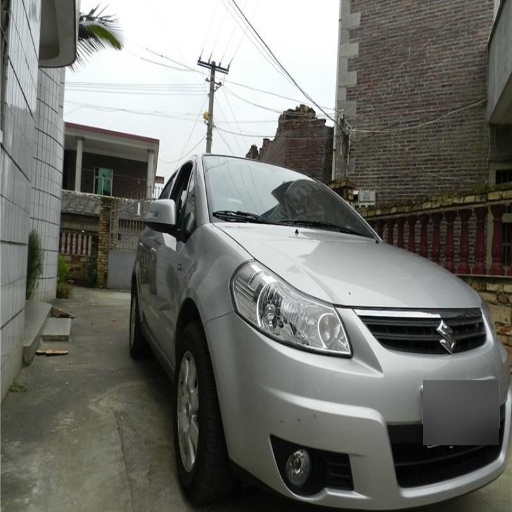front_bumper: (206, 306, 511, 511)
front_right_door: (148, 179, 198, 350)
front_right_light: (231, 260, 352, 357)
